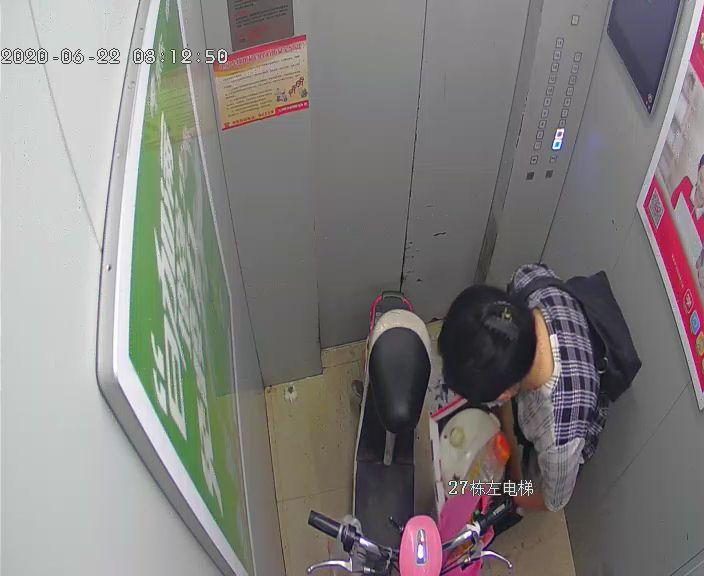Electric-bicycle: (302, 291, 509, 575), (439, 261, 612, 517)
